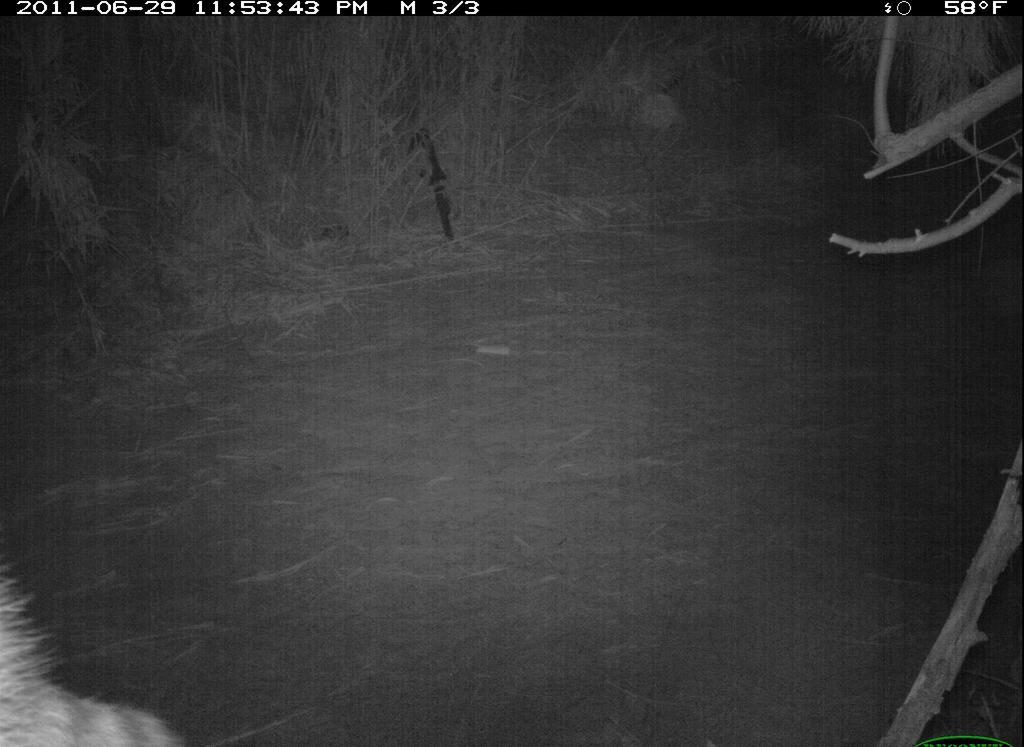raccoon: (1, 564, 199, 747)
